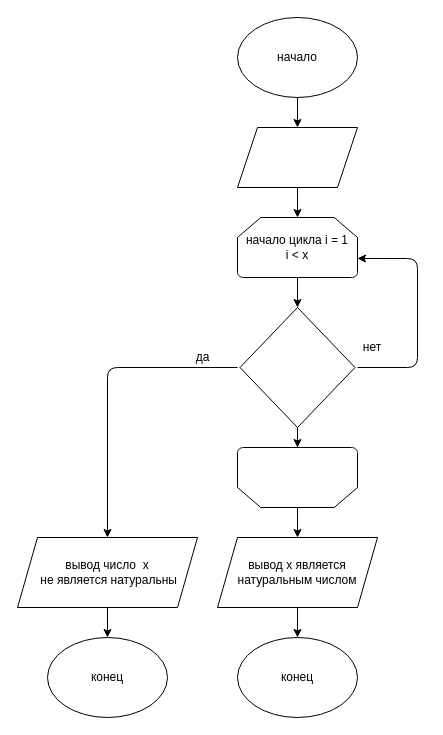
This 443x735 diagram has some shape labels left out. Here are the shapes that lost their labels. From the top down, the centre of each, then its label:
At [297,157]: "ввод числа x".
At [297,367]: "x % i == 0 && a != i && i != 1".
At [297,477]: "выход из цикла".
